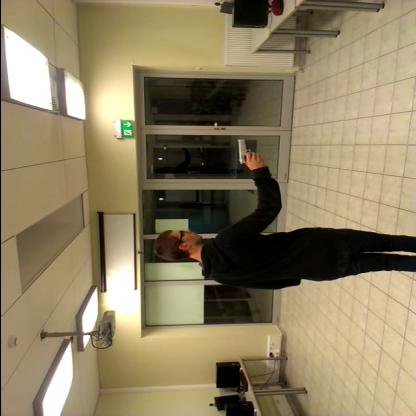Pistol: (228, 132, 262, 172)
